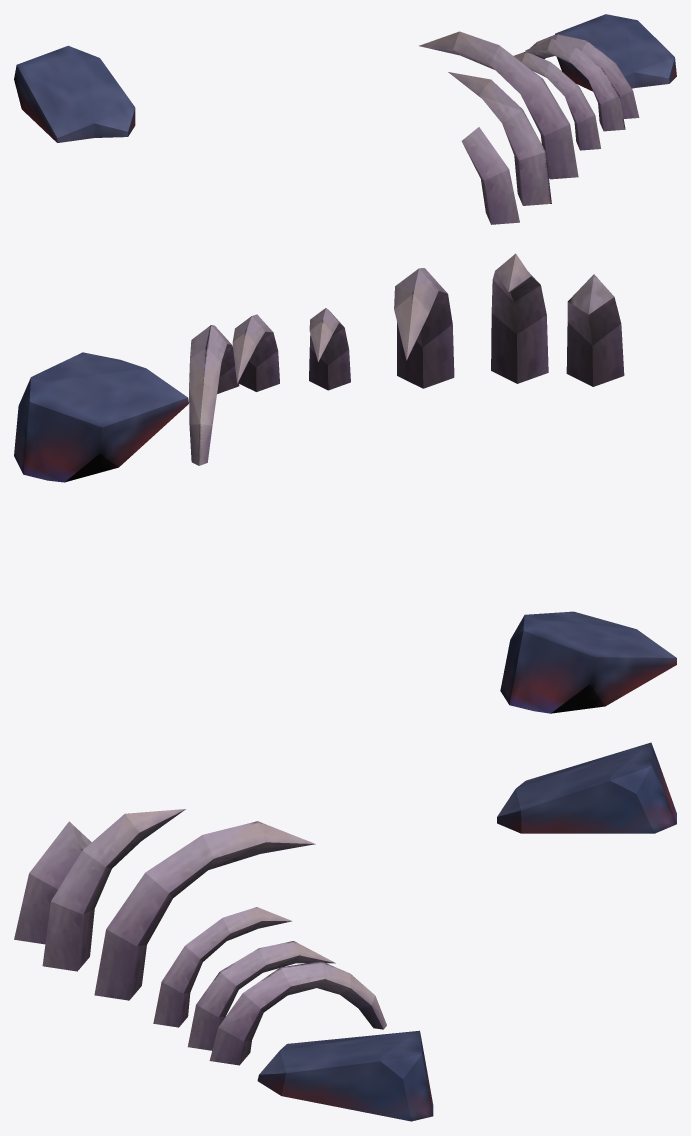
File: Area08_19.fbx
3 views of the same model, one above another, from view 1: azimuth 30°, elevation 25°; view 2: azimuth 150°, elevation 25°; view 3: azimuth 270°, elevation 25° (orthographic). The views are drawn at different scales.
Parts seen in each view (by area): view 1: Area08_19; view 2: Area08_19; view 3: Area08_19.
Part boxes in pixels (x1,y1,x2,y2): Area08_19: (14,14,676,224); Area08_19: (14,253,676,713); Area08_19: (14,742,676,1121).
Bounding box in the file's own units: 583 × 140 × 508.
